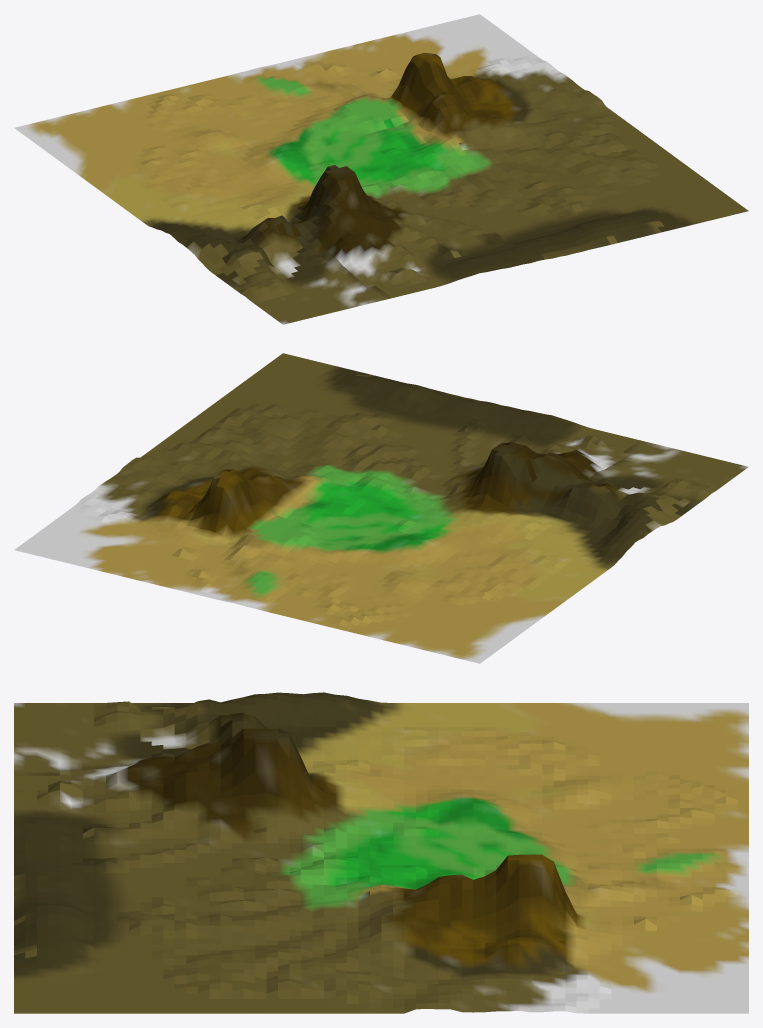
File: Terrain_with_color_try.fbx
3 views of the same model, one above another, from view 1: azimuth 30°, elevation 25°; view 2: azimuth 150°, elevation 25°; view 3: azimuth 270°, elevation 25° (orthographic). The views are drawn at different scales.
Visible parts, largest first — view 1: Terrain_Eighth; view 2: Terrain_Eighth; view 3: Terrain_Eighth.
Part boxes in pixels (x1,y1,x2,y2): Terrain_Eighth: (14, 14, 748, 324); Terrain_Eighth: (14, 353, 748, 663); Terrain_Eighth: (14, 692, 748, 1013).
Size of the model in its own units: 54000 by 5400 by 54000.
